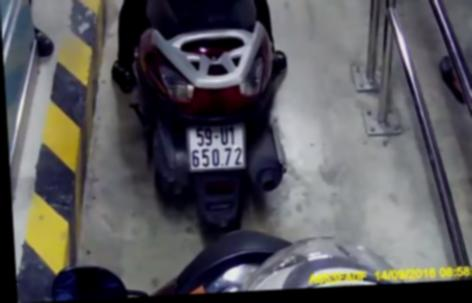License_Plate: (180, 116, 256, 179)
